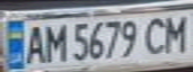5: (69, 19, 90, 61)
6: (87, 18, 109, 61)
7: (103, 17, 124, 60)
9: (118, 16, 142, 58)
A: (21, 22, 48, 65)
C: (139, 15, 172, 56)
M: (160, 11, 193, 54), (42, 21, 69, 63)
